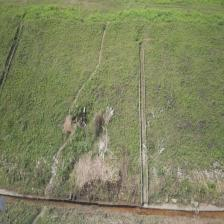rock_toe: (167, 169, 224, 181)
slope_drain: (0, 11, 26, 99), (138, 40, 148, 207)
toe_drain: (0, 190, 224, 224)
